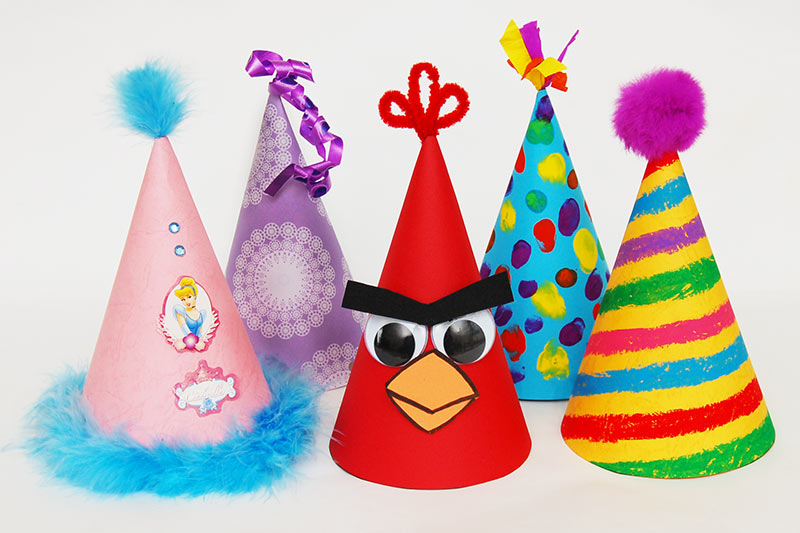cone: (329, 136, 533, 490), (561, 151, 775, 479), (81, 135, 273, 449), (225, 84, 367, 391), (480, 87, 612, 400)
